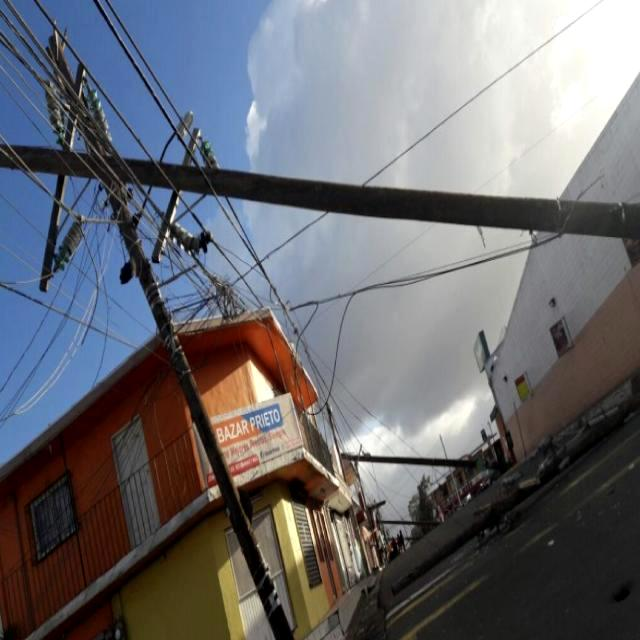Broken Pole: (0, 52, 640, 301)
